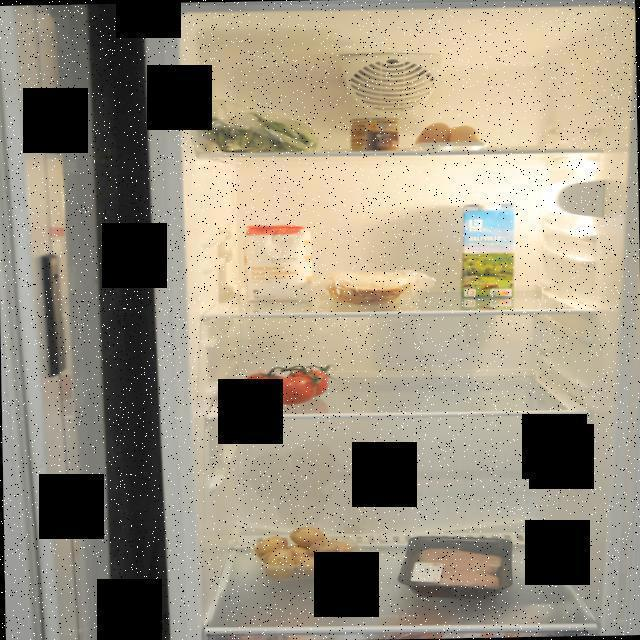bread: (321, 267, 416, 305)
chicken_breast: (410, 542, 506, 594)
corn: (346, 115, 403, 153)
egg: (416, 120, 484, 150)
milk: (460, 201, 516, 307)
potato: (254, 527, 360, 585)
spinach: (190, 108, 322, 154)
sugar: (242, 220, 316, 304)
tomato: (240, 360, 334, 406)
